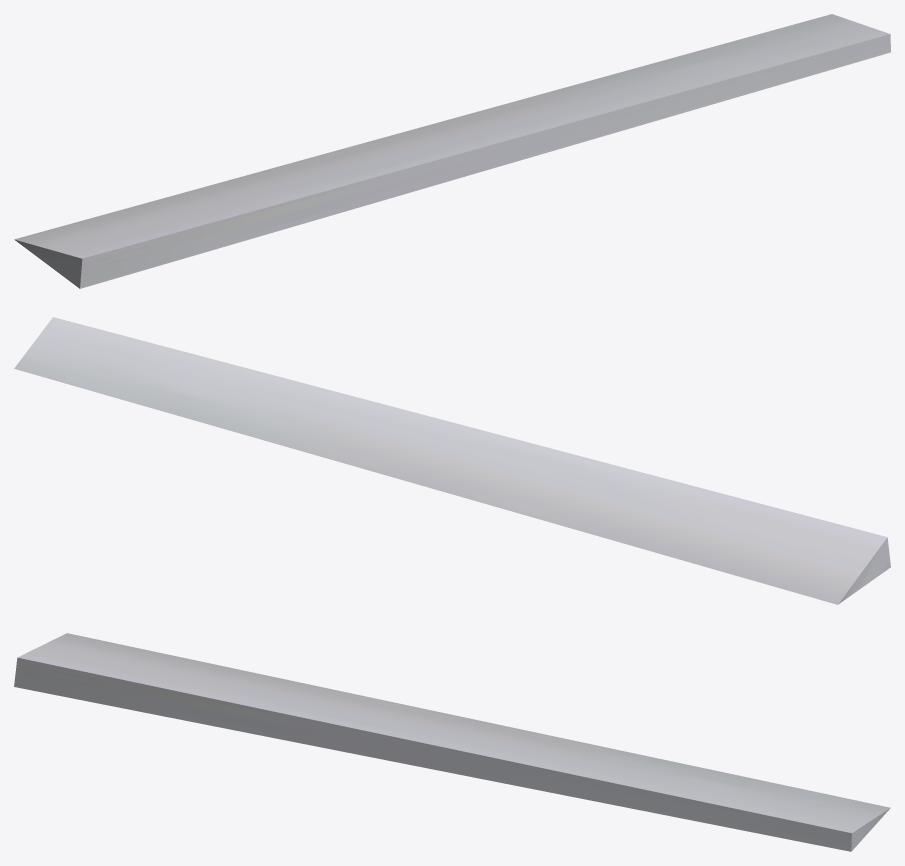
The model's file is LeftWingControlsSurface.glb.
The picture shows the model from 3 angles, top to bottom: view 1: azimuth 30°, elevation 25°; view 2: azimuth 150°, elevation 25°; view 3: azimuth 330°, elevation 25°; orthographic projection.
Visible parts, largest first — view 1: Cube.001; view 2: Cube.001; view 3: Cube.001.
Part boxes in pixels (bbox=[...]): Cube.001: bbox=[14, 14, 890, 288]; Cube.001: bbox=[14, 317, 890, 604]; Cube.001: bbox=[14, 633, 890, 851].
Size of the model in its own units: 33.5 by 1.98 by 4.16.
1 material, 1 textured.
